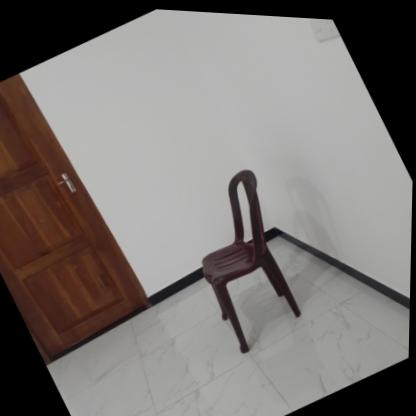Chair: (166, 159, 329, 355)
